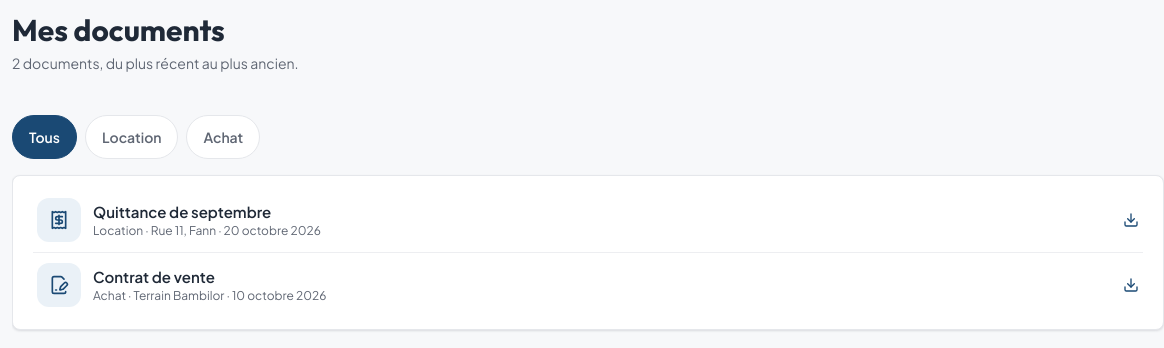
Test: ClientDocumentsPage › liste les documents de plusieurs espaces et filtre par espace
expect the text "Contrat de vente" is shown: met, box top-left (93, 266), bottom-right (215, 286)
expect the text "Quittance de septembre" is shown: met, box top-left (93, 202), bottom-right (271, 220)
What coordinates should you click on to do the following:
click the button "Location"
I would click on:
 (132, 137)
Its box is top-left (85, 115), bottom-right (178, 159).
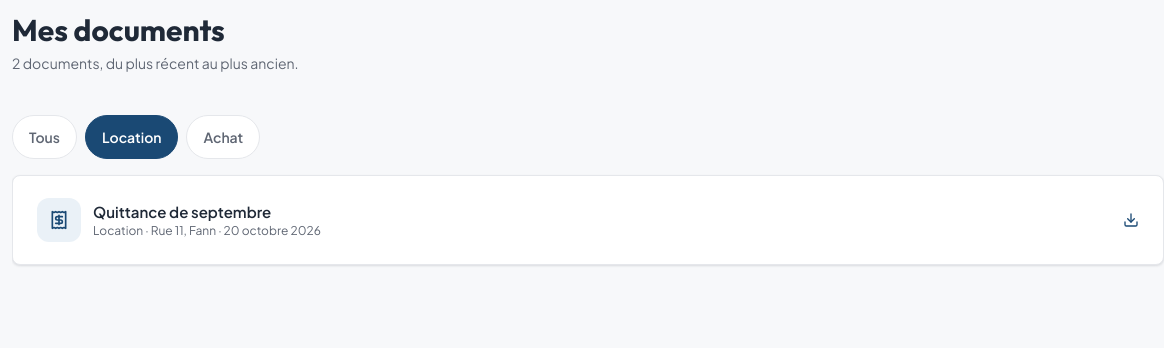
expect the text "Quittance de septembre" is shown: met, box top-left (93, 202), bottom-right (271, 220)
expect the link "Contrat de vente" is gone: met
